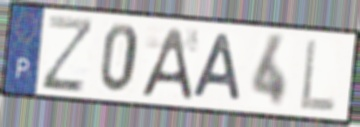0: (97, 22, 140, 96)
4: (248, 31, 290, 112)
A: (137, 26, 195, 102), (190, 31, 244, 104)
L: (298, 37, 338, 114)
Z: (39, 14, 97, 95)
